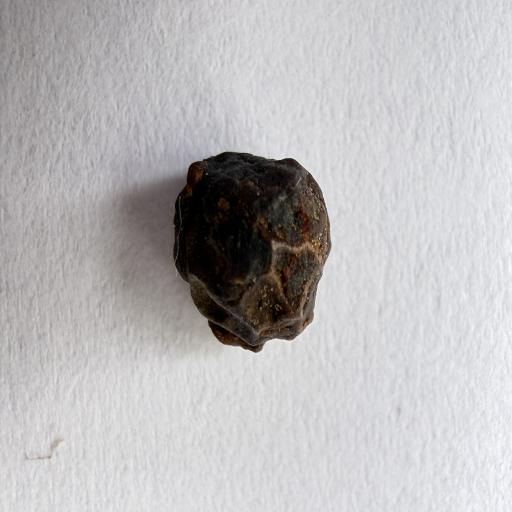Black_pepper: (164, 150, 338, 362)
